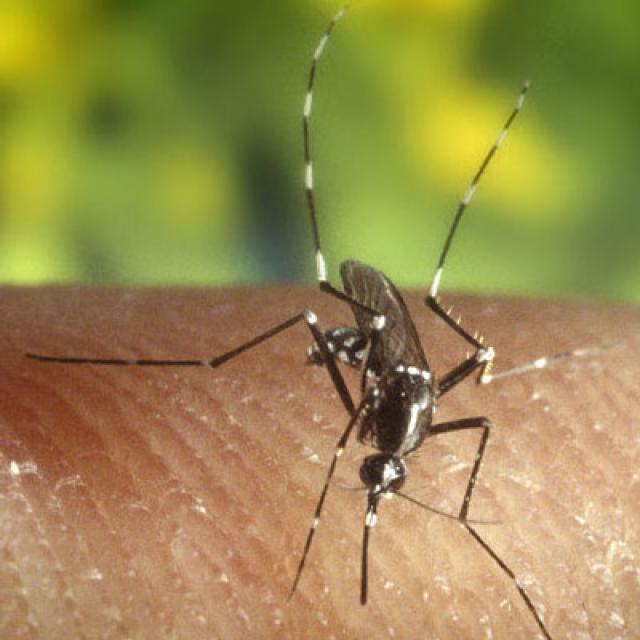antennae: (388, 476, 509, 533)
body: (306, 330, 432, 486)
insect: (18, 7, 572, 638)
legs: (25, 309, 358, 589), (300, 13, 526, 366), (431, 104, 566, 640)
mouthpart: (350, 482, 417, 608)
wings: (341, 255, 444, 377)
